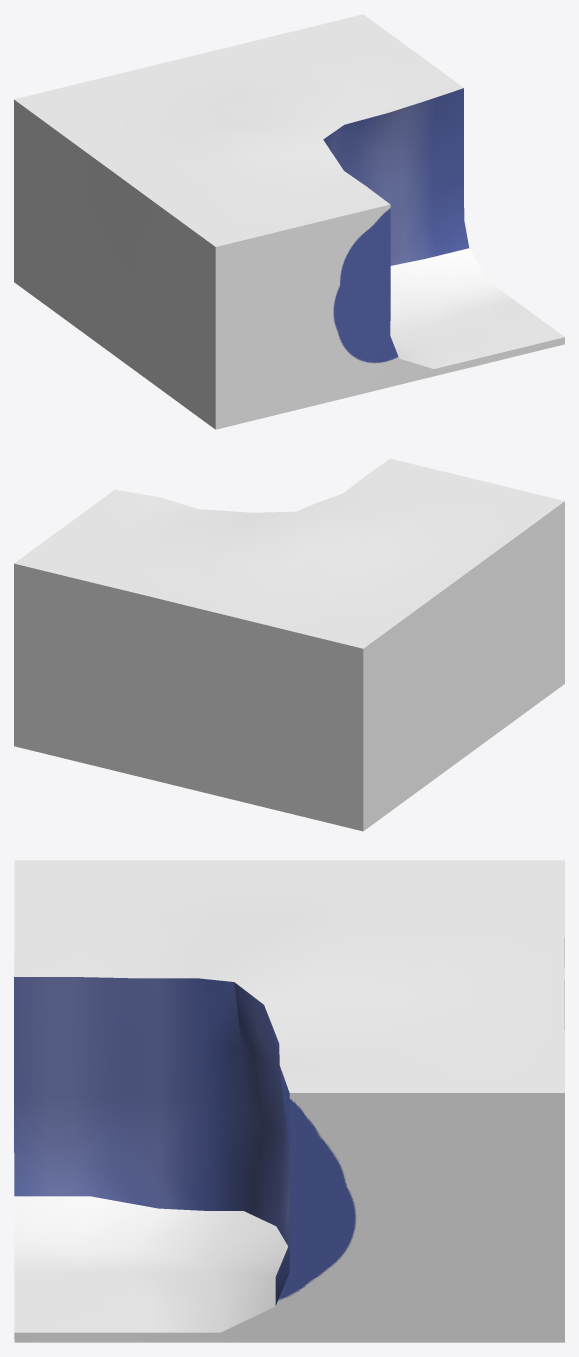
The model's file is wall_convex_1.glb.
3 views of the same model, one above another, from view 1: azimuth 30°, elevation 25°; view 2: azimuth 150°, elevation 25°; view 3: azimuth 270°, elevation 25° (orthographic). The views are drawn at different scales.
Parts seen in each view (by area): view 1: wall_convex_1.001; view 2: wall_convex_1.001; view 3: wall_convex_1.001.
Boxes of the visible parts, <box> form: wall_convex_1.001: <box>14,14,564,429</box>; wall_convex_1.001: <box>14,458,564,831</box>; wall_convex_1.001: <box>14,860,564,1342</box>.
Size of the model in its own units: 2 by 1.04 by 2.
Materials: 2 (1 with a texture image).
